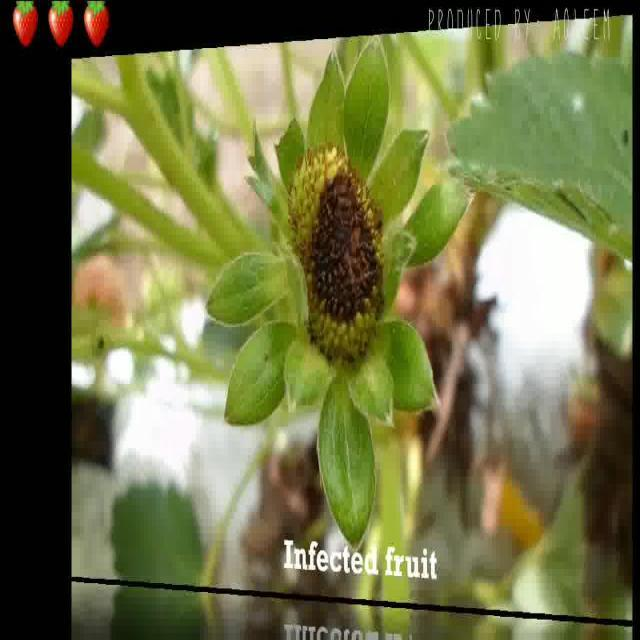Mancha negra Antracnosis: (291, 143, 399, 364)
